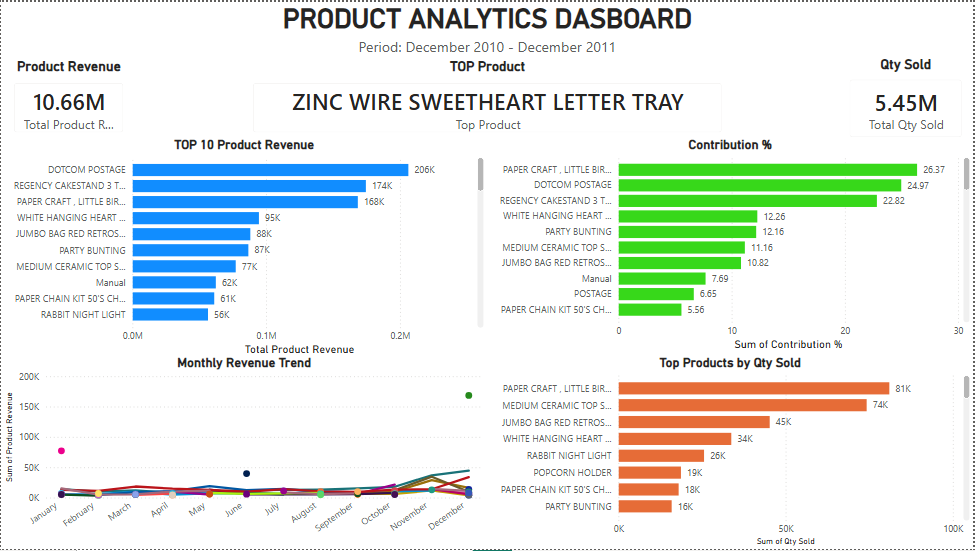

The dashboard page shown, as its layout file describes it:
{"tool":"powerbi","page":{"name":"Product Analytics","canvas":[1280,720],"ordinal":1},"visuals":[{"type":"textbox","title":"PRODUCT ANALYTICS DASBOARD","box":[0,0,1280,85.7],"z":0},{"type":"cardVisual","title":"Product Revenue","fields":{"Data":["retail_sales vw_product_summary.Total Product Revenue"]},"box":[0,74.3,178.6,115.7],"z":1000},{"type":"cardVisual","title":"TOP Product","fields":{"Data":["retail_sales vw_product_summary.Top Product"]},"box":[314.3,74.3,651.4,115.7],"z":2000},{"type":"cardVisual","title":"Qty Sold","fields":{"Data":["retail_sales vw_product_summary.Total Qty Sold"]},"box":[1101.4,71.4,178.6,122.9],"z":3000},{"type":"barChart","title":"TOP 10 Product Revenue","fields":{"Category":["retail_sales vw_product_summary.Product"],"Y":["retail_sales vw_product_summary.Total Product Revenue"]},"box":[0,177.1,640,292.9],"z":4000},{"type":"barChart","title":"Contribution %","fields":{"Category":["retail_sales vw_product_summary.Product"],"Y":["Sum(retail_sales vw_product_summary.Contribution %)"]},"box":[640,177.1,640,285.7],"z":5000},{"type":"lineChart","title":"Monthly Product Revenue","fields":{"Y":["Sum(retail_sales vw_product_summary.Product Revenue)"],"Category":["retail_sales vw_product_summary.Month.Variation.Date Hierarchy.Month"],"Series":["retail_sales vw_product_summary.Product"]},"box":[0,464.3,640,255.7],"z":6000},{"type":"barChart","title":"Top Products by Qty Sold","fields":{"Category":["retail_sales vw_product_summary.Product"],"Y":["Sum(retail_sales vw_product_summary.Qty Sold)"]},"box":[640,464.3,640,255.7],"z":7000}]}

Visuals, with their boxes in screenshot pixels (x1, y1, x2, y2), scaled from the page's 1280x720 canvas onto the 975x551 screenshot:
"PRODUCT ANALYTICS DASBOARD" textbox: (0, 0, 974, 66)
"Product Revenue" cardVisual: (0, 57, 136, 145)
"TOP Product" cardVisual: (239, 57, 736, 145)
"Qty Sold" cardVisual: (839, 55, 974, 149)
"TOP 10 Product Revenue" barChart: (0, 136, 488, 360)
"Contribution %" barChart: (488, 136, 974, 354)
"Monthly Product Revenue" lineChart: (0, 355, 488, 550)
"Top Products by Qty Sold" barChart: (488, 355, 974, 550)
